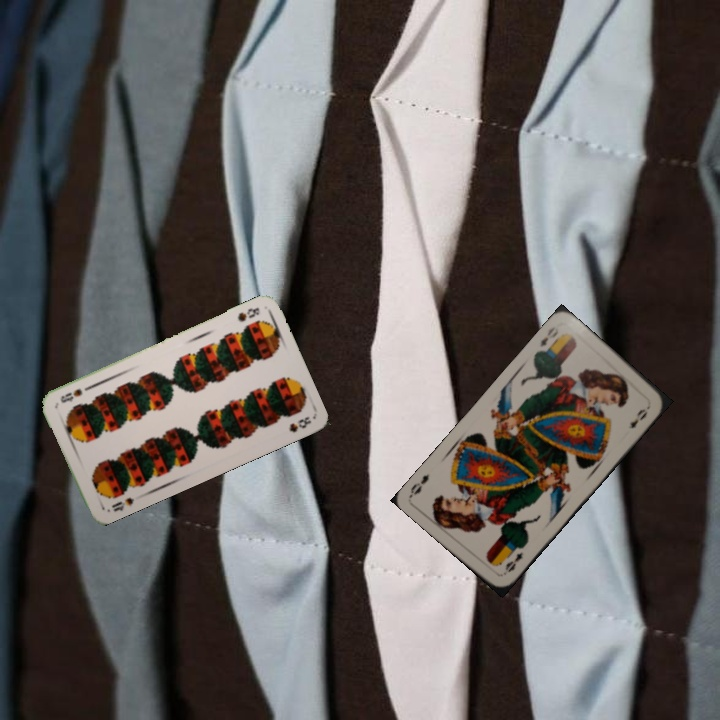EO: (536, 322, 561, 350), (501, 548, 525, 575)
S8: (233, 303, 263, 324), (107, 493, 136, 514)
